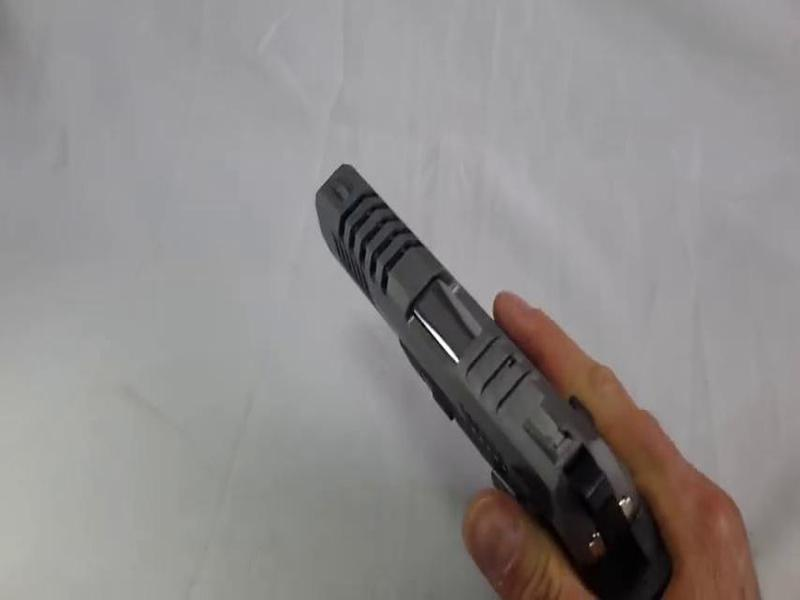Pistola: (301, 156, 682, 599)
